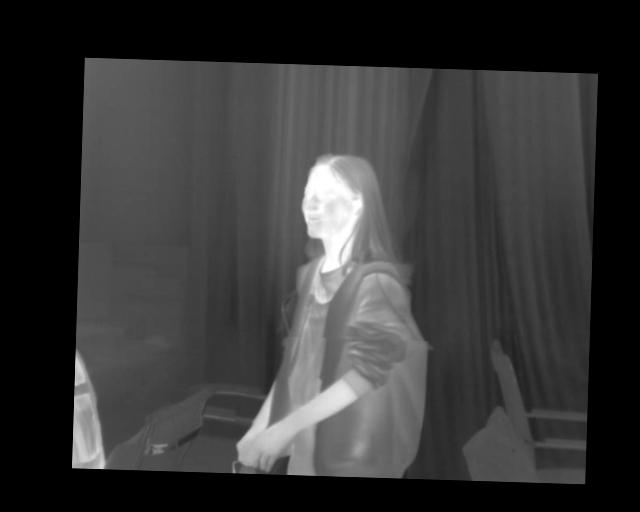face: (300, 151, 378, 242)
